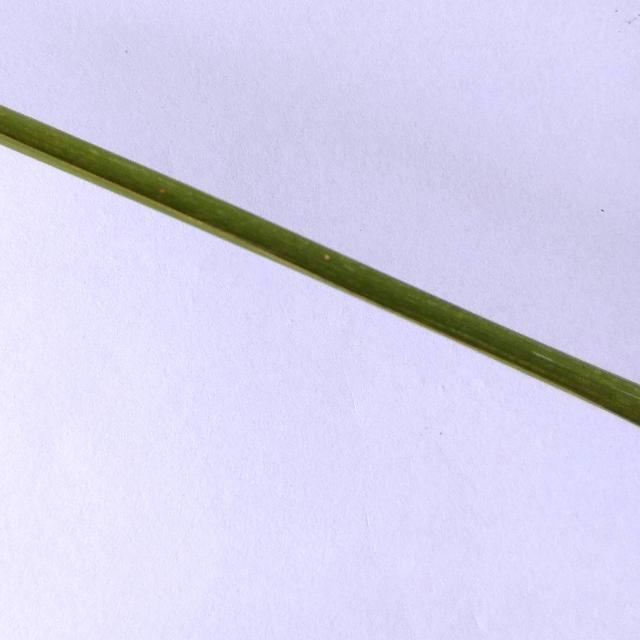Blast: (156, 183, 178, 200), (318, 251, 334, 262)
